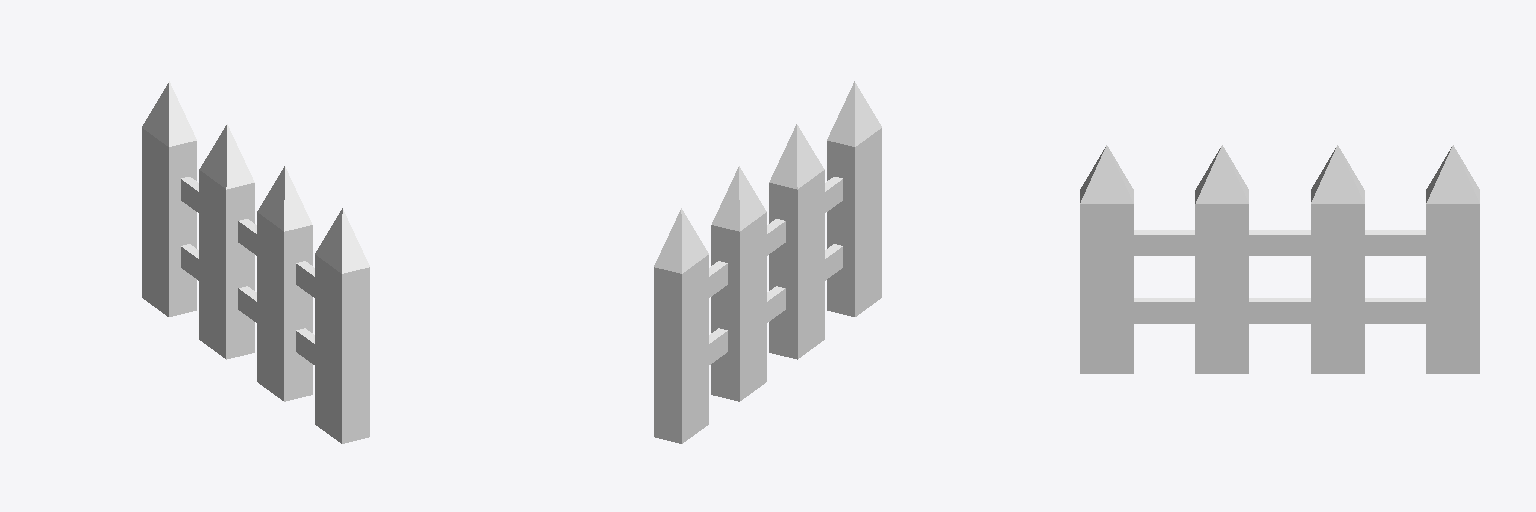
File: valla_madera.obj
The picture shows the model from 3 angles: view 1: azimuth 30°, elevation 25°; view 2: azimuth 150°, elevation 25°; view 3: azimuth 270°, elevation 25°; orthographic projection.
Visible parts, largest first — view 1: pCube4, pCube2, pCube3, pCube1, pCube6, pCube5; view 2: pCube1, pCube3, pCube2, pCube4, pCube6, pCube5; view 3: pCube1, pCube4, pCube2, pCube3, pCube5, pCube6.
Part boxes in pixels (x1,y1,x2,y2): pCube4: (315, 208, 369, 443); pCube2: (199, 124, 254, 359); pCube3: (257, 166, 312, 401); pCube1: (142, 81, 196, 316); pCube6: (181, 244, 314, 364); pCube5: (181, 177, 314, 297); pCube1: (654, 208, 708, 443); pCube3: (769, 124, 824, 359); pCube2: (711, 166, 766, 401); pCube4: (827, 81, 881, 316); pCube6: (709, 244, 842, 364); pCube5: (709, 177, 842, 297); pCube1: (1426, 145, 1479, 373); pCube4: (1080, 145, 1133, 373); pCube2: (1311, 145, 1364, 373); pCube3: (1195, 145, 1248, 373); pCube5: (1134, 230, 1425, 255); pCube6: (1134, 298, 1425, 323).
Bounding box in the file's own units: 1.01 × 7.58 × 12.35.